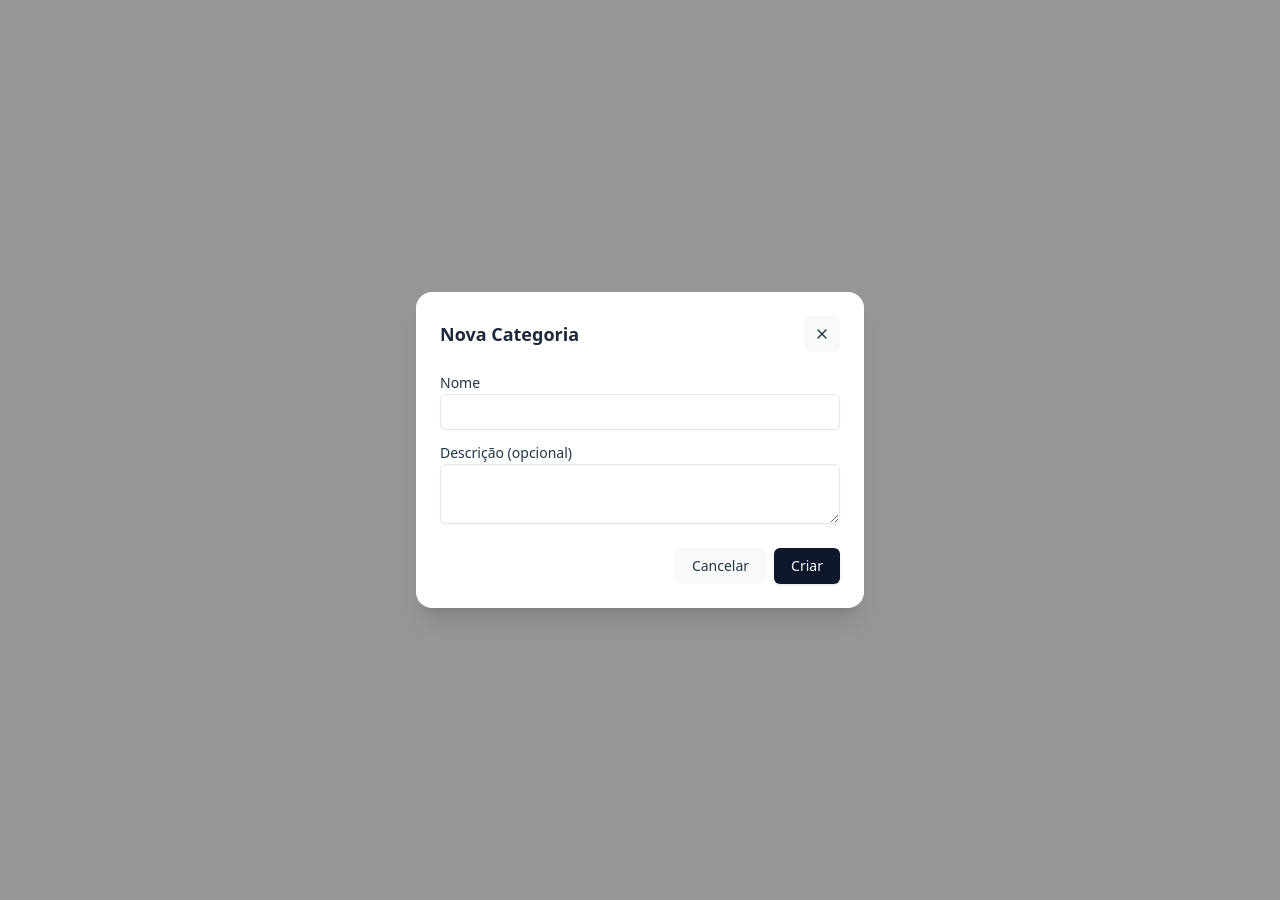
CategoryForm › exibe erro de validação ao submeter sem preencher o nome
This screenshot has width=1280, height=900.
Click the button "Criar" at (807, 566), box [774,548,840,584]
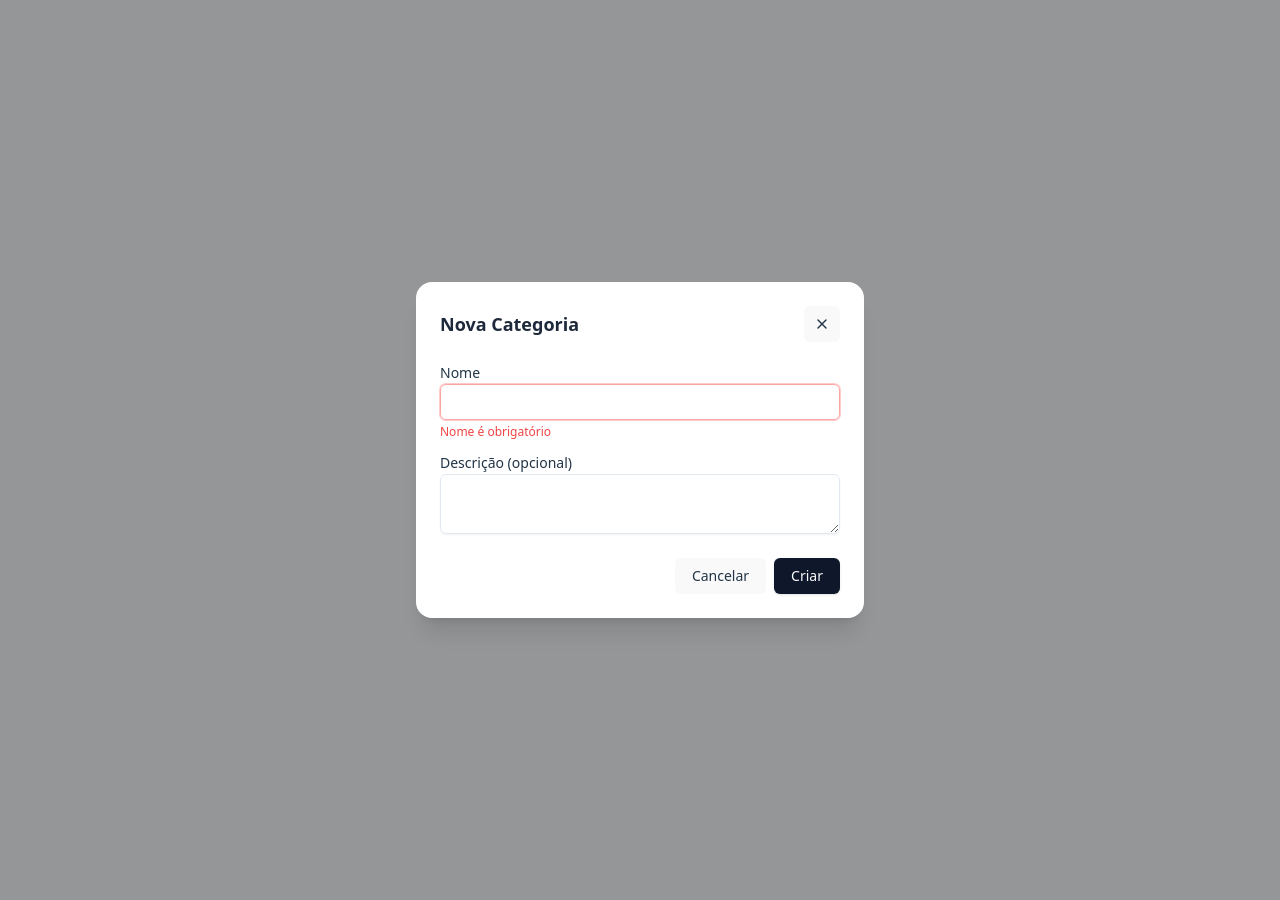
Check: the text "Nome é obrigatório" is shown, box [440,423,551,440]
